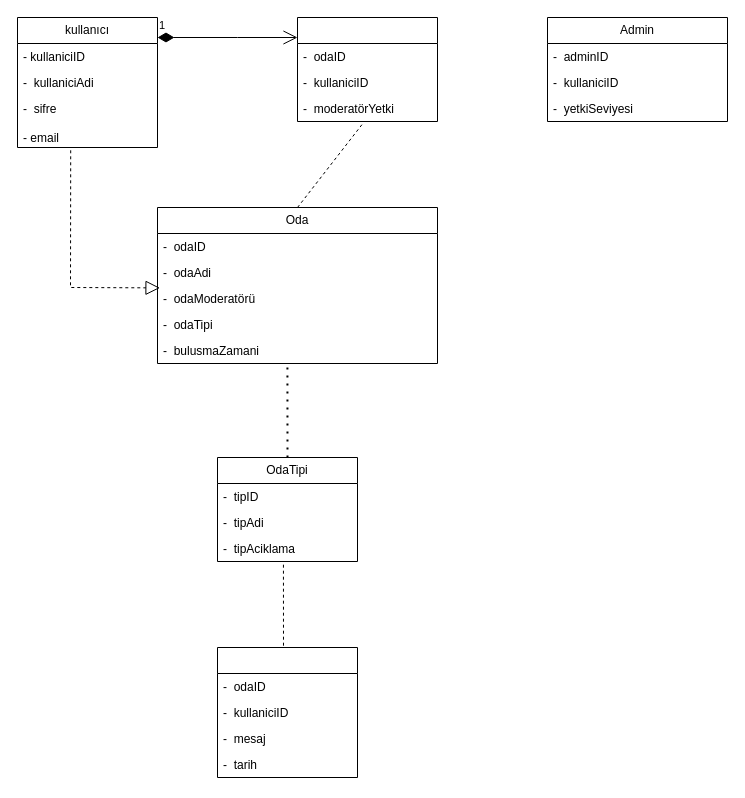
Some shapes in this 745 by 798 pixel diagram are drawn without their labels. The shapes that lost their labels are listed below. From the top down, each one's box as (x1, y1, x2, y2) in pixels, then its label:
(296, 16, 438, 122): OdaModeratörü
(216, 646, 358, 778): sohbetEkranı
